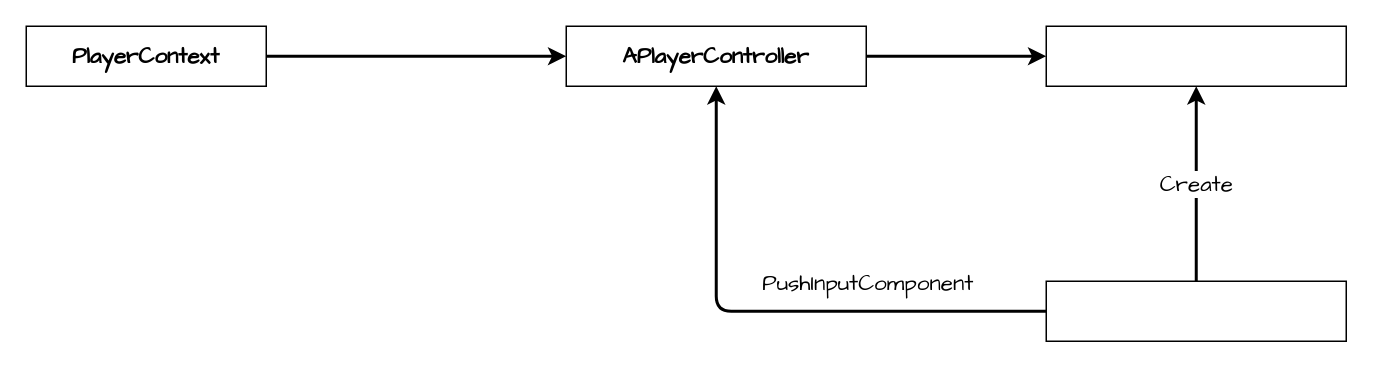
Some shapes in this 1373 by 368 pixel diagram are drawn without their labels. Each missing label, with the centre of its shape:
InputComponent: [1195,55]
UUserWidget: [1195,310]
